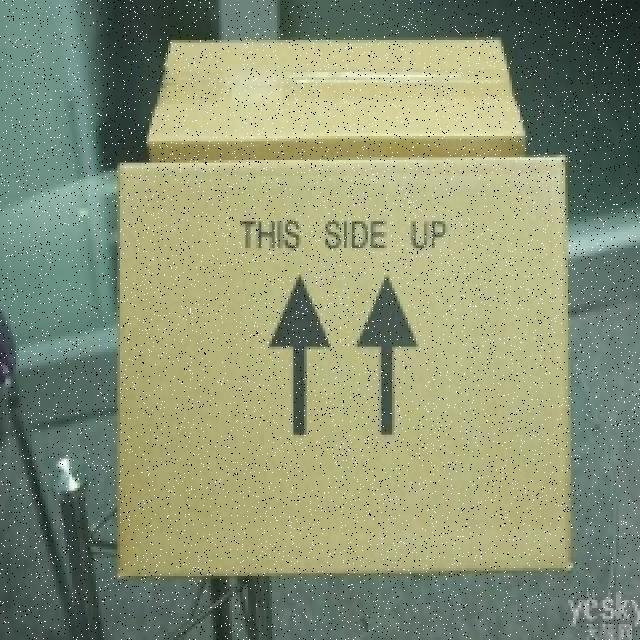box: (117, 159, 578, 572), (157, 31, 539, 163)
